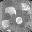people: (5, 6, 17, 16), (1, 19, 11, 28), (15, 16, 23, 25)
